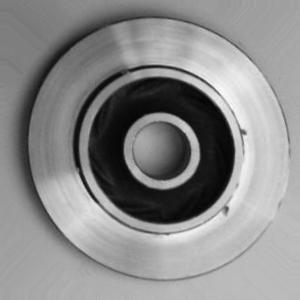defect: (220, 118, 258, 224)
